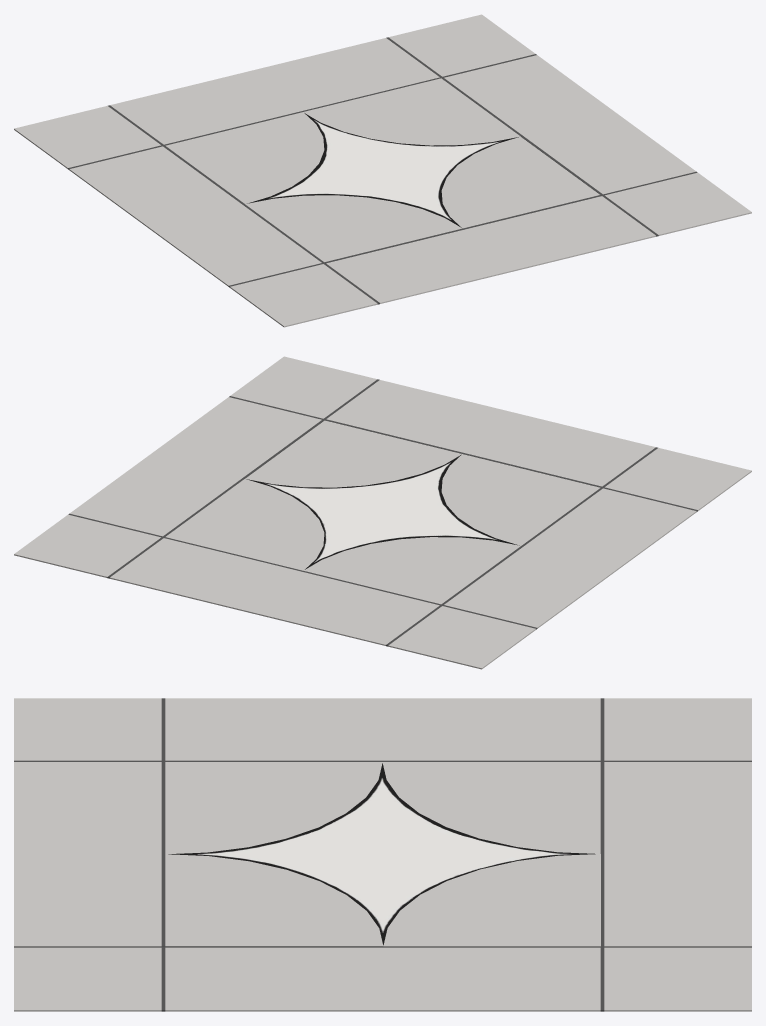
The model's file is feuille_v08.glb.
3 renders of one model, top to bottom at view 1: azimuth 30°, elevation 25°; view 2: azimuth 150°, elevation 25°; view 3: azimuth 270°, elevation 25°, orthographic. The views are drawn at different scales.
Visible parts, largest first — view 1: feuille04a, feuille04e, feuille04i, feuille02, feuille04f, feuille04g, feuille04h, feuille04d, feuille04c, feuille04b, feuille01, feuille04j (+5 smaller); view 2: feuille04i, feuille04e, feuille04a, feuille02, feuille04f, feuille04h, feuille04c, feuille04g, feuille04d, feuille04j, feuille03, feuille04b (+5 smaller); view 3: feuille02, feuille04e, feuille04a, feuille04i, feuille04f, feuille04c, feuille04g, feuille04h, feuille04d, feuille01, feuille03, feuille04b (+5 smaller).
Boxes of the visible parts, box(x1,y1,x2,y2) form: feuille04a: box(326, 196, 655, 303); feuille04e: box(69, 146, 321, 286); feuille04i: box(110, 38, 439, 144); feuille02: box(444, 55, 695, 194); feuille04f: box(247, 113, 518, 227); feuille04g: box(303, 78, 520, 145); feuille04h: box(165, 112, 324, 203); feuille04d: box(245, 195, 462, 262); feuille04c: box(441, 136, 599, 228); feuille04b: box(230, 264, 377, 327); feuille01: box(605, 172, 751, 235); feuille04j: box(14, 106, 160, 168); feuille04i: box(110, 538, 439, 645); feuille04e: box(444, 488, 696, 628); feuille04a: box(326, 380, 655, 486); feuille02: box(70, 397, 321, 536); feuille04f: box(246, 454, 519, 569); feuille04h: box(304, 537, 520, 604); feuille04c: box(245, 420, 461, 487); feuille04g: box(165, 479, 324, 570); feuille04d: box(441, 454, 600, 545); feuille04j: box(388, 606, 535, 669); feuille03: box(14, 514, 160, 577); feuille04b: box(605, 448, 751, 510); feuille02: box(165, 947, 600, 1011); feuille04e: box(165, 698, 600, 760); feuille04a: box(14, 762, 161, 946); feuille04i: box(604, 762, 751, 946); feuille04f: box(168, 763, 595, 945); feuille04c: box(165, 854, 383, 946); feuille04g: box(383, 854, 600, 946); feuille04h: box(382, 762, 600, 853); feuille04d: box(165, 762, 382, 854); feuille01: box(14, 947, 161, 1011); feuille03: box(604, 947, 751, 1011); feuille04b: box(14, 698, 161, 760).
Bounding box in the file's own units: 0.4 × 0.00113 × 0.4.
Materials: 3 (1 with a texture image).
